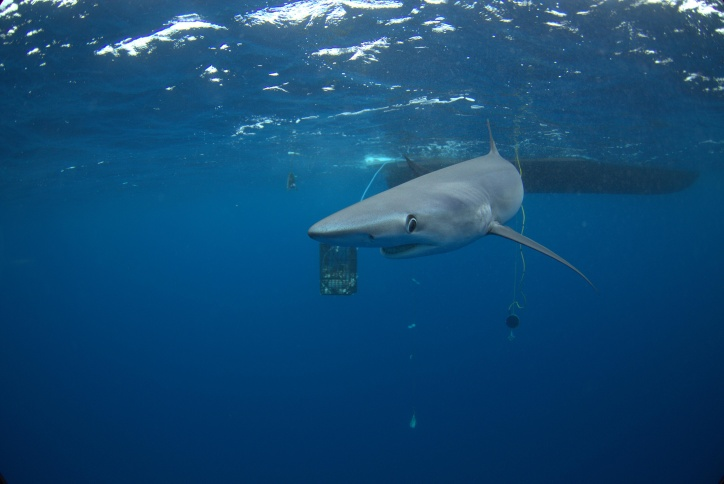Azul: (287, 112, 615, 310)
